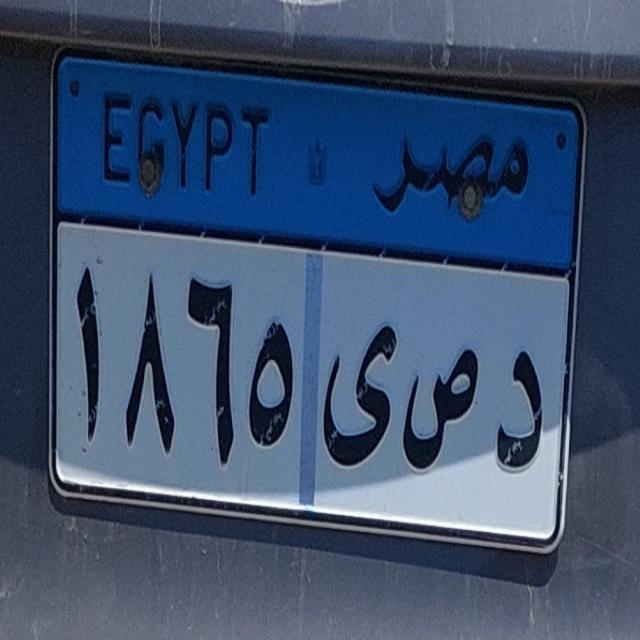1: (52, 250, 134, 464)
5: (238, 310, 304, 463)
6: (166, 272, 254, 480)
8: (111, 257, 197, 482)
Saad: (397, 320, 488, 488)
Yeeh: (316, 302, 406, 486)
daal: (484, 327, 558, 496)
